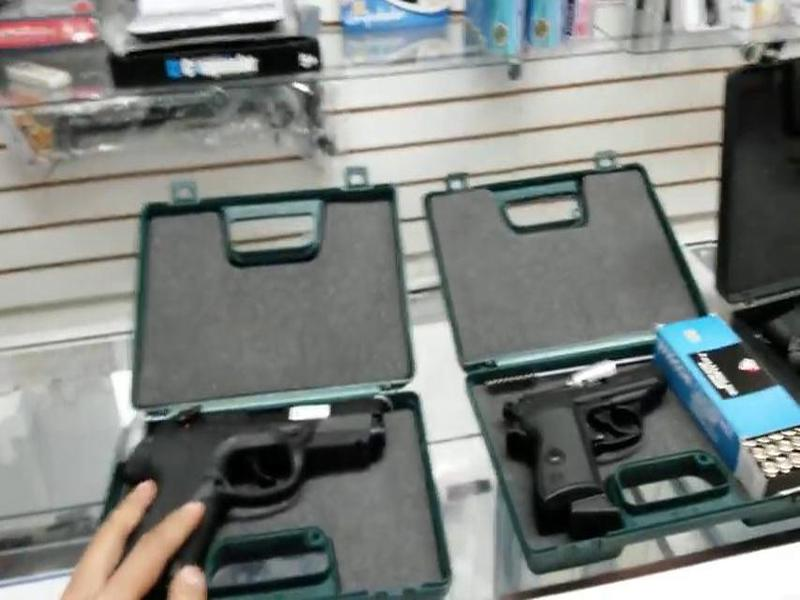Pistola: (125, 389, 387, 562), (505, 374, 668, 518)
